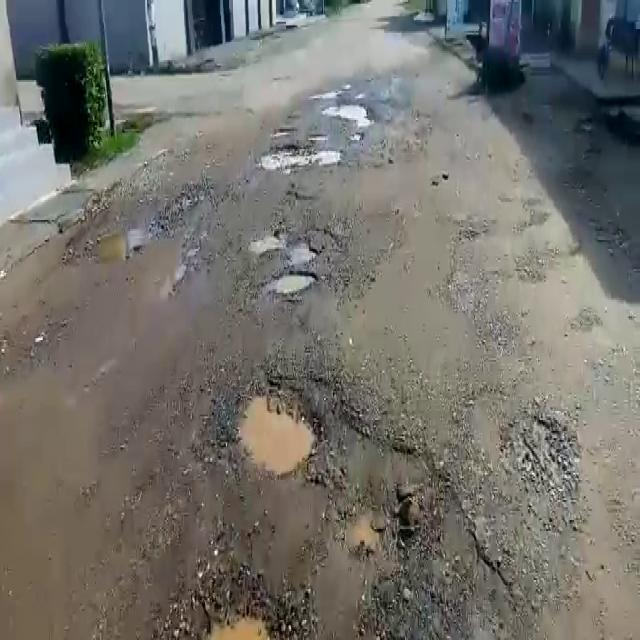Pothole: (233, 377, 321, 478), (255, 142, 339, 168), (93, 223, 153, 259), (251, 234, 317, 266), (260, 268, 317, 298), (324, 99, 380, 122)
